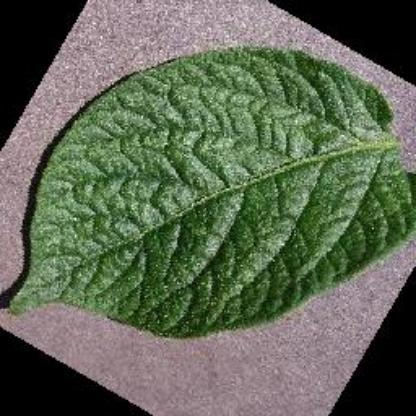Healthy-plant: (7, 41, 415, 339)
